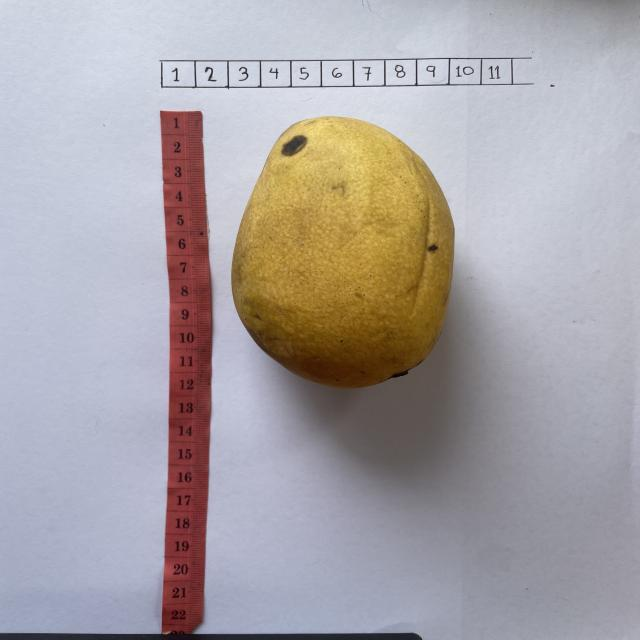Ripe: (230, 116, 456, 391)
